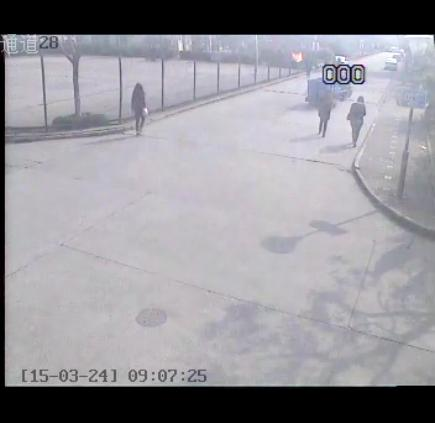person: (346, 93, 369, 150), (129, 81, 150, 141), (316, 90, 335, 139)
